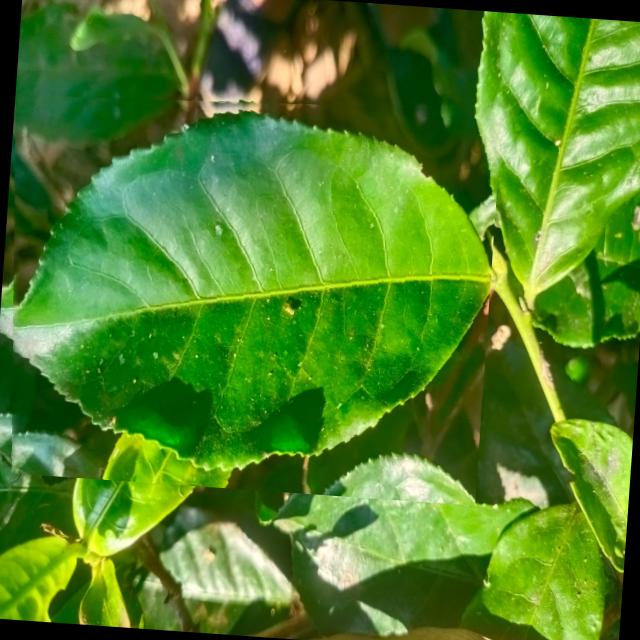Category D(7+ days, Not for Tea): (0, 76, 502, 505)
